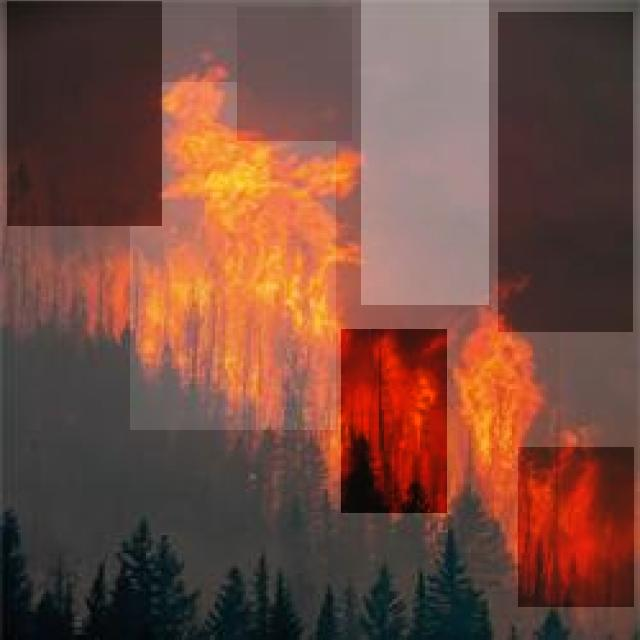Fire: (130, 82, 336, 430), (458, 306, 560, 519), (341, 329, 447, 513), (518, 447, 634, 607)
Smoke: (498, 12, 633, 332), (361, 0, 489, 305), (7, 1, 162, 226), (237, 7, 352, 141)
